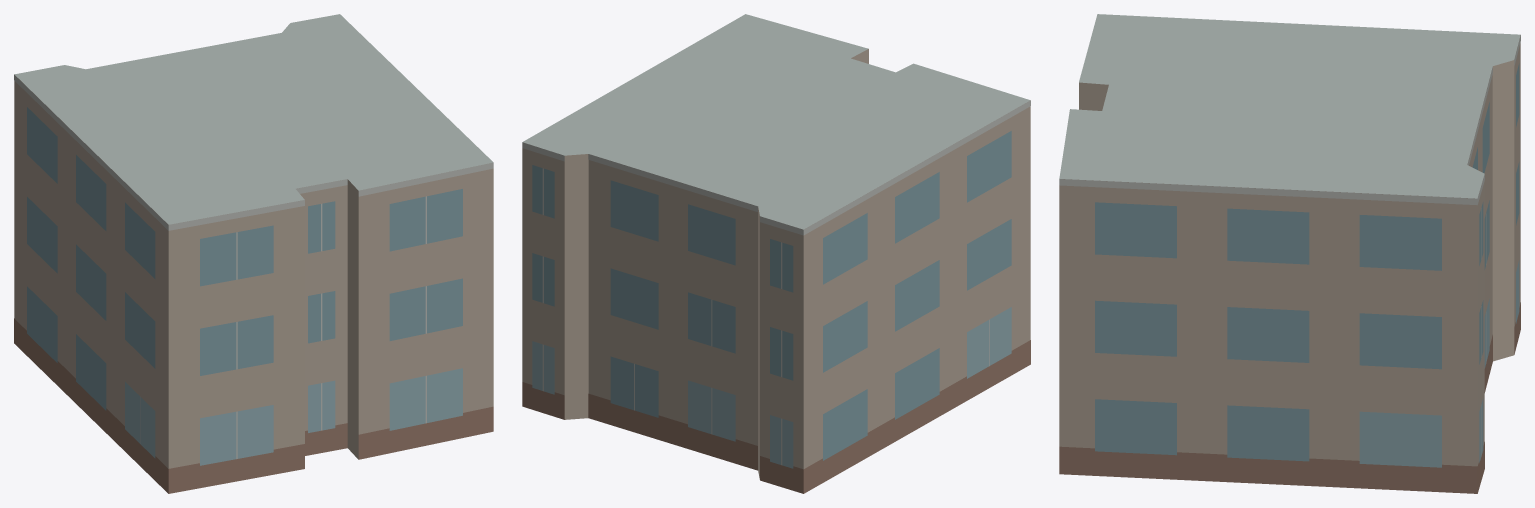
Rendered from survey-upis-32500957.glb.
The picture shows the model from 3 angles, left to right: view 1: azimuth 30°, elevation 25°; view 2: azimuth 150°, elevation 25°; view 3: azimuth 270°, elevation 25°; orthographic projection. The views are drawn at different scales.
Parts seen in each view (by area): view 1: survey-upis-32500957.tmp; view 2: survey-upis-32500957.tmp; view 3: survey-upis-32500957.tmp.
Part boxes in pixels (<box>): survey-upis-32500957.tmp: <box>14,14,493,493</box>; survey-upis-32500957.tmp: <box>522,14,1030,493</box>; survey-upis-32500957.tmp: <box>1059,14,1520,493</box>.
Size of the model in its own units: 14.61 by 10.89 by 15.43.
